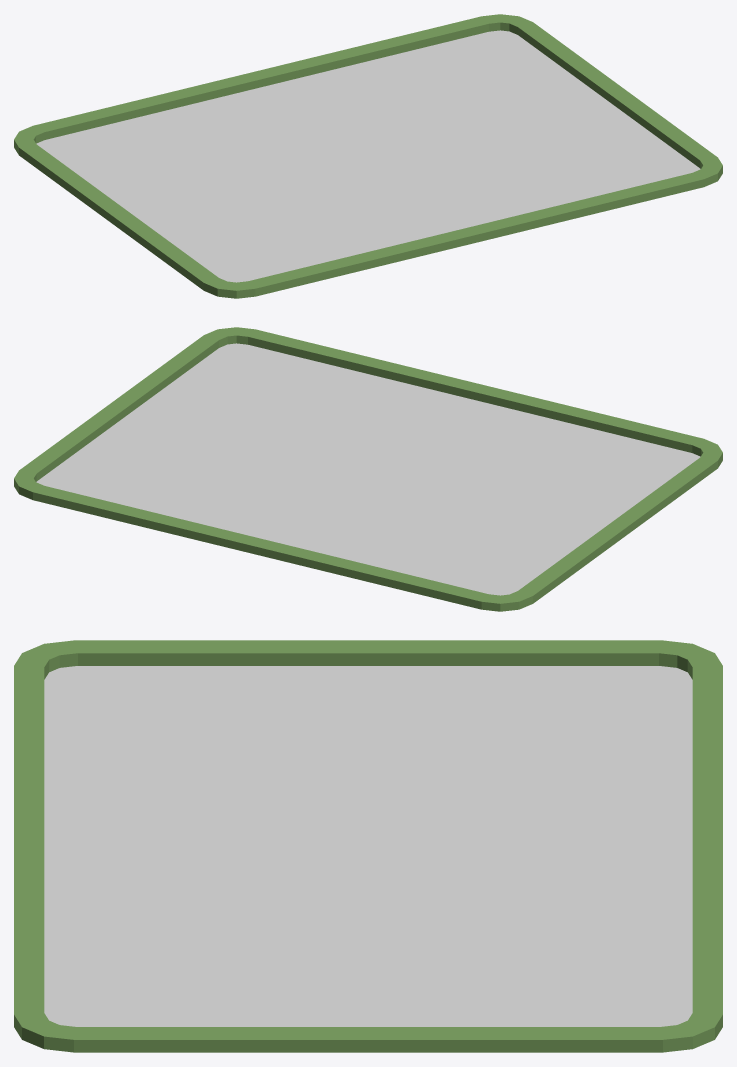
File: Platform.fbx
3 views of the same model, one above another, from view 1: azimuth 30°, elevation 25°; view 2: azimuth 150°, elevation 25°; view 3: azimuth 270°, elevation 25° (orthographic). The views are drawn at different scales.
Parts seen in each view (by area): view 1: Plane.030; view 2: Plane.030; view 3: Plane.030.
Boxes of the visible parts, x1,y1,x2,y2 form: Plane.030: [14, 14, 722, 298]; Plane.030: [14, 327, 722, 611]; Plane.030: [14, 640, 722, 1052].
Size of the model in its own units: 3200 by 47.23 by 2400.
